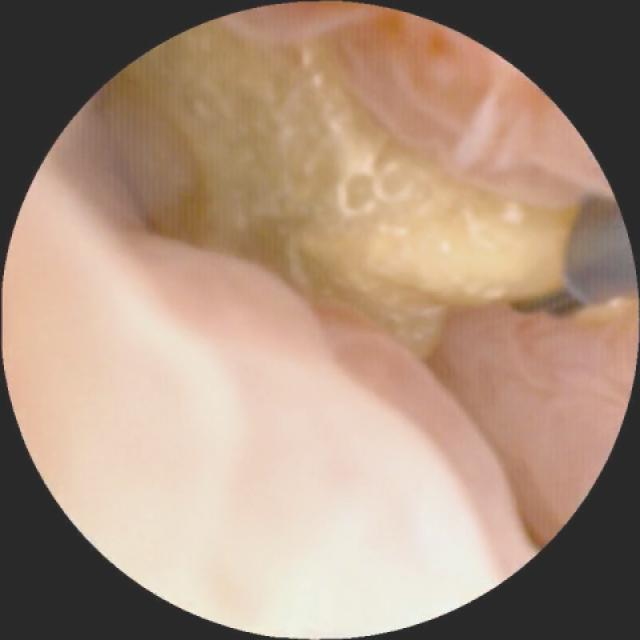stone: (105, 30, 570, 355)
tissue: (18, 116, 630, 633)
